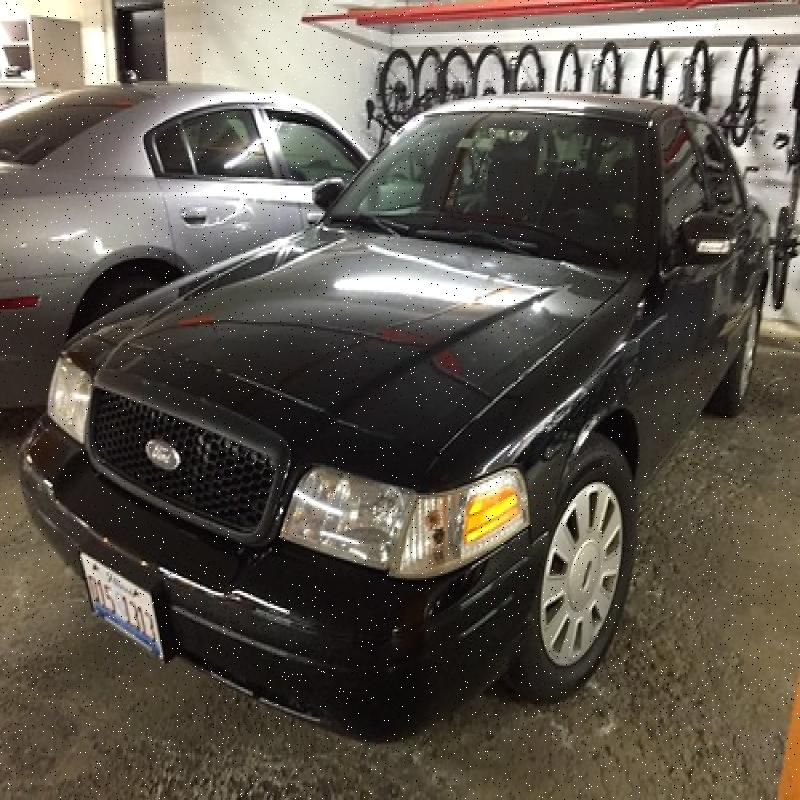car: (0, 89, 793, 747)
